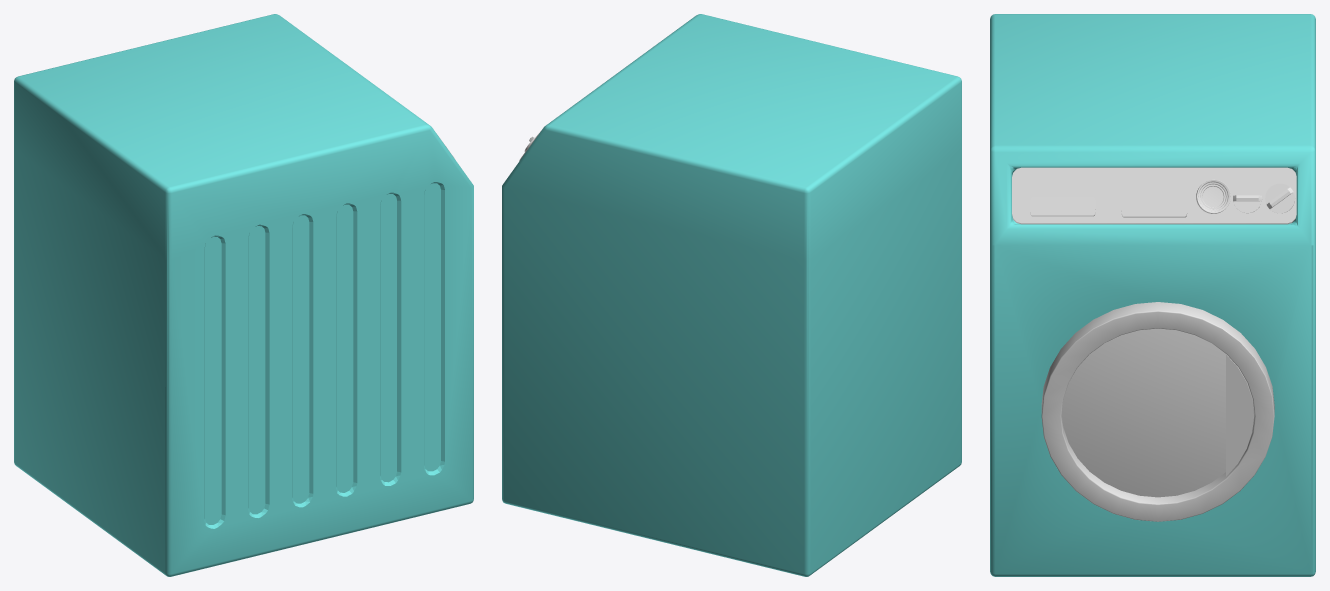
Rendered from lavadora2.fbx.
The picture shows the model from 3 angles, left to right: view 1: azimuth 30°, elevation 25°; view 2: azimuth 150°, elevation 25°; view 3: azimuth 270°, elevation 25°; orthographic projection. The views are drawn at different scales.
Parts seen in each view (by area): view 1: Lavadora; view 2: Lavadora; view 3: Lavadora.
Part boxes in pixels (<box>): Lavadora: <box>14,14,473,576</box>; Lavadora: <box>502,14,961,576</box>; Lavadora: <box>990,14,1315,576</box>.
Size of the model in its own units: 242 by 277 by 200.
